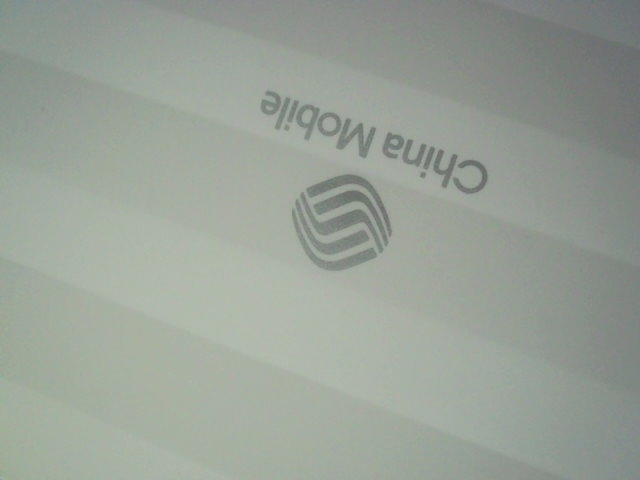AA_ChinaMobile: (236, 80, 493, 276)
